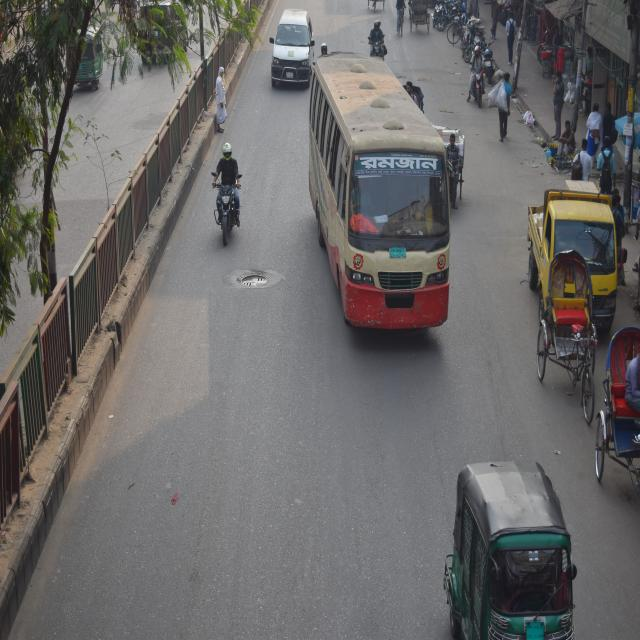bus: (308, 56, 454, 346)
microbus: (267, 6, 312, 88)
motorbike: (205, 153, 248, 258), (463, 50, 488, 113), (369, 21, 388, 66), (431, 2, 449, 37)
pickup-van: (525, 176, 622, 342)
